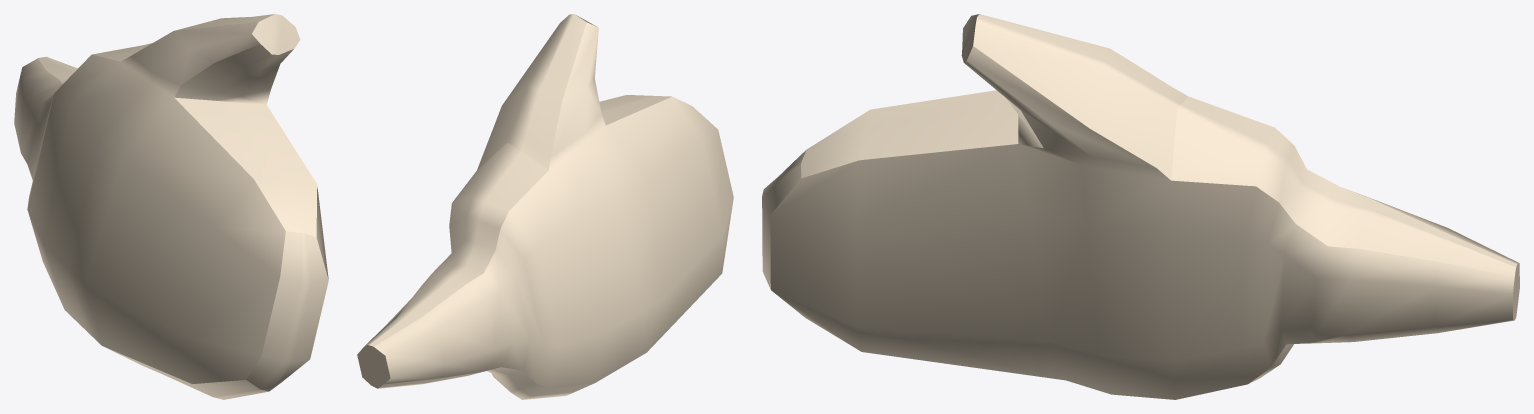
Rendered from right.fbx.
3 renders of one model, left to right at view 1: azimuth 30°, elevation 25°; view 2: azimuth 150°, elevation 25°; view 3: azimuth 270°, elevation 25°, orthographic. The views are drawn at different scales.
Parts seen in each view (by area): view 1: Hand_R1; view 2: Hand_R1; view 3: Hand_R1.
Boxes of the visible parts, x1=… form: Hand_R1: x1=14, y1=14, x2=328, y2=399; Hand_R1: x1=357, y1=14, x2=733, y2=399; Hand_R1: x1=762, y1=14, x2=1519, y2=399.
Size of the model in its own units: 14.74 by 27.7 by 45.9.
Materials: 1 (1 with a texture image).
